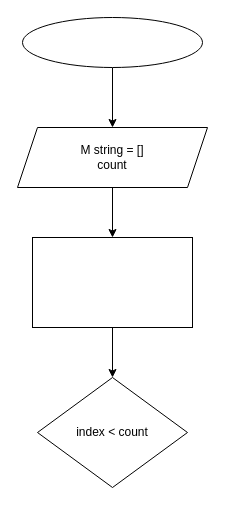
The diagram is 225 pixels wide and 505 high, and some of its shapes have lost their labels. Here are the shapes that lost their labels. From the top down, the centre of each, then its label:
the point at 112,42: Начало
the point at 112,282: index=0 max = count - 1
